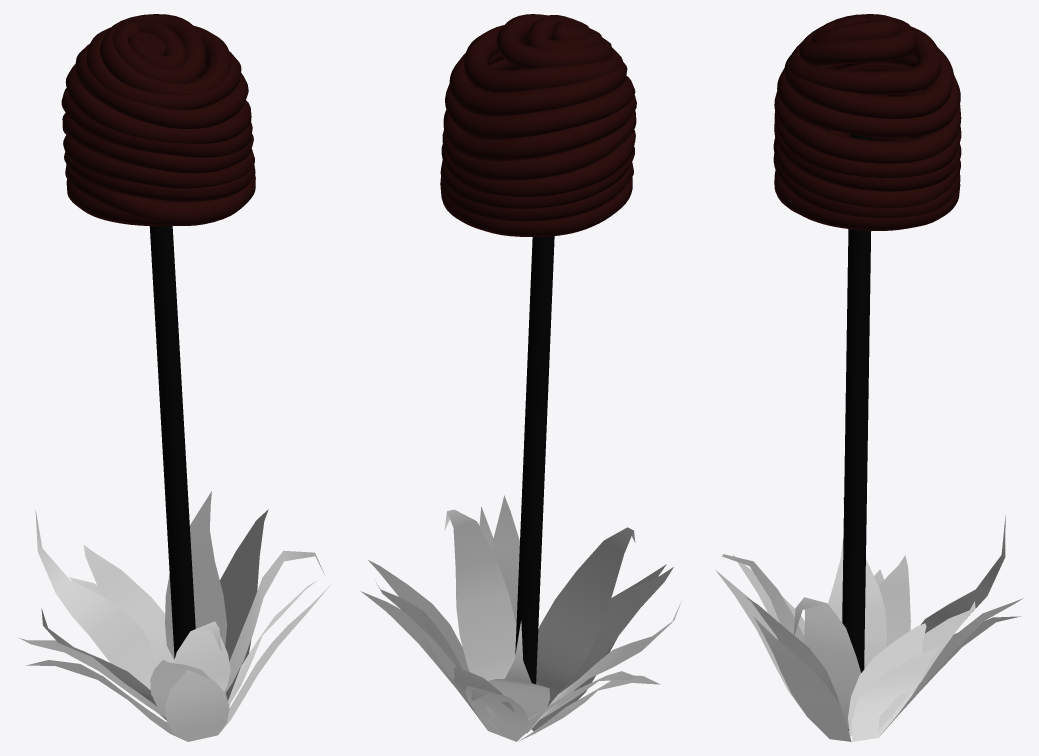
3 views of the same model, side by side, from view 1: azimuth 30°, elevation 25°; view 2: azimuth 150°, elevation 25°; view 3: azimuth 270°, elevation 25° (orthographic). The views are drawn at different scales.
Visible parts, largest first — view 1: brush_Icing_g1_b0, brush_Petal_g1_b0; view 2: brush_Icing_g1_b0, brush_Petal_g1_b0; view 3: brush_Icing_g1_b0, brush_Petal_g1_b0.
Boxes of the visible parts, x1,y1,x2,y2 form: brush_Icing_g1_b0: (61, 14, 255, 658); brush_Petal_g1_b0: (19, 491, 330, 741); brush_Icing_g1_b0: (440, 14, 636, 684); brush_Petal_g1_b0: (361, 495, 681, 741); brush_Icing_g1_b0: (773, 14, 961, 730); brush_Petal_g1_b0: (715, 497, 1023, 741).
Size of the model in its own units: 3.74 by 9.47 by 3.82.
